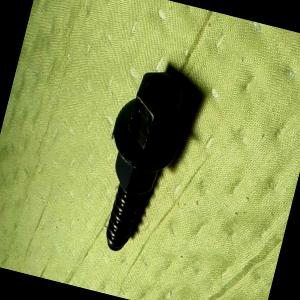parafuso: (84, 62, 196, 260)
